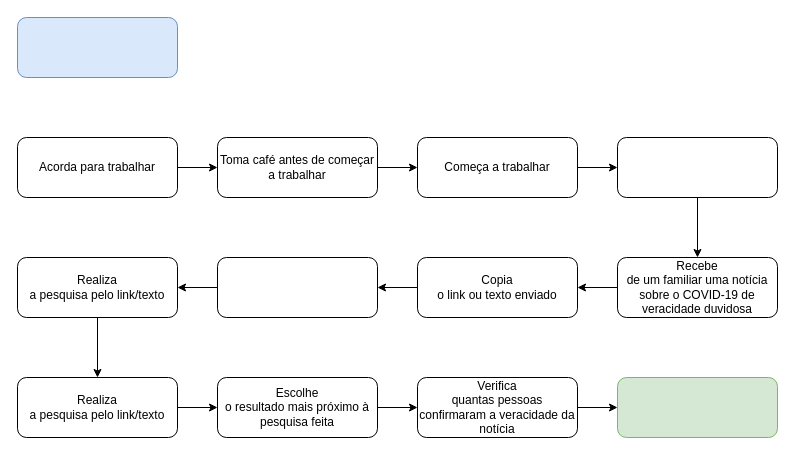
Some shapes in this 795 by 455 pixel diagram are drawn without their labels. The shapes that lost their labels are listed below. From the top down, each one's centre as x and y in pixels, then its label:
At point (97, 47): "Verificar uma notícia".
At point (697, 167): "No horário do almoço decide ver os grupos de mensagens".
At point (297, 287): "Abre o COVID-Checkers".
At point (697, 407): "Responde seu familiar com a informação correta".
